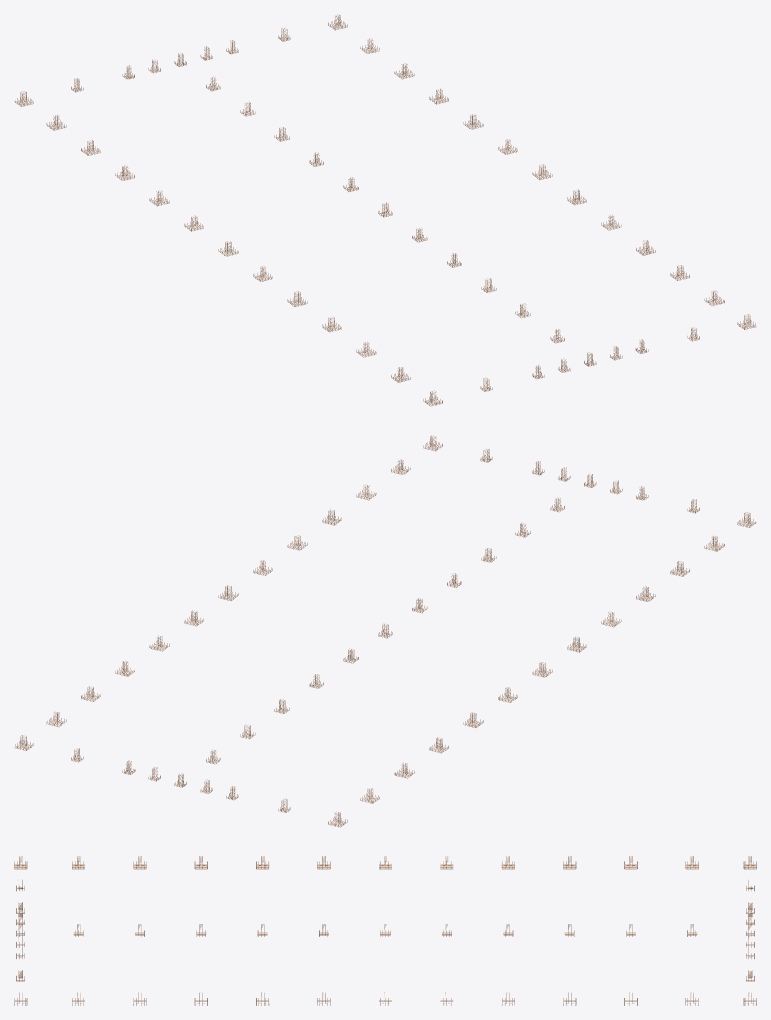
The model's file is peb_rebar.glb.
3 views of the same model, one above another, from view 1: azimuth 30°, elevation 25°; view 2: azimuth 150°, elevation 25°; view 3: azimuth 270°, elevation 25° (orthographic). The views are drawn at different scales.
Visible parts, largest first — view 1: rebar; view 2: rebar; view 3: rebar.
Boxes of the visible parts, box(x1,y1,x2,y2) form: rebar: box(14, 14, 756, 406); rebar: box(14, 435, 756, 827); rebar: box(14, 856, 756, 1005).
Size of the model in its own units: 42 by 1.33 by 92.8.
